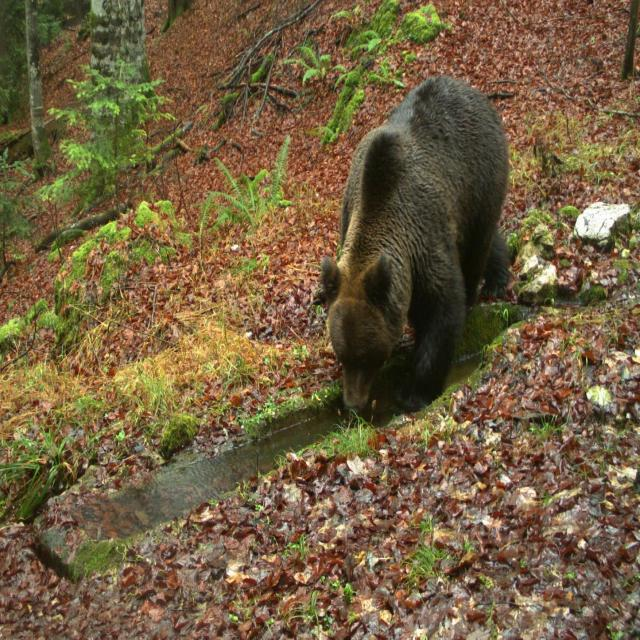Bear: (321, 76, 512, 427)
